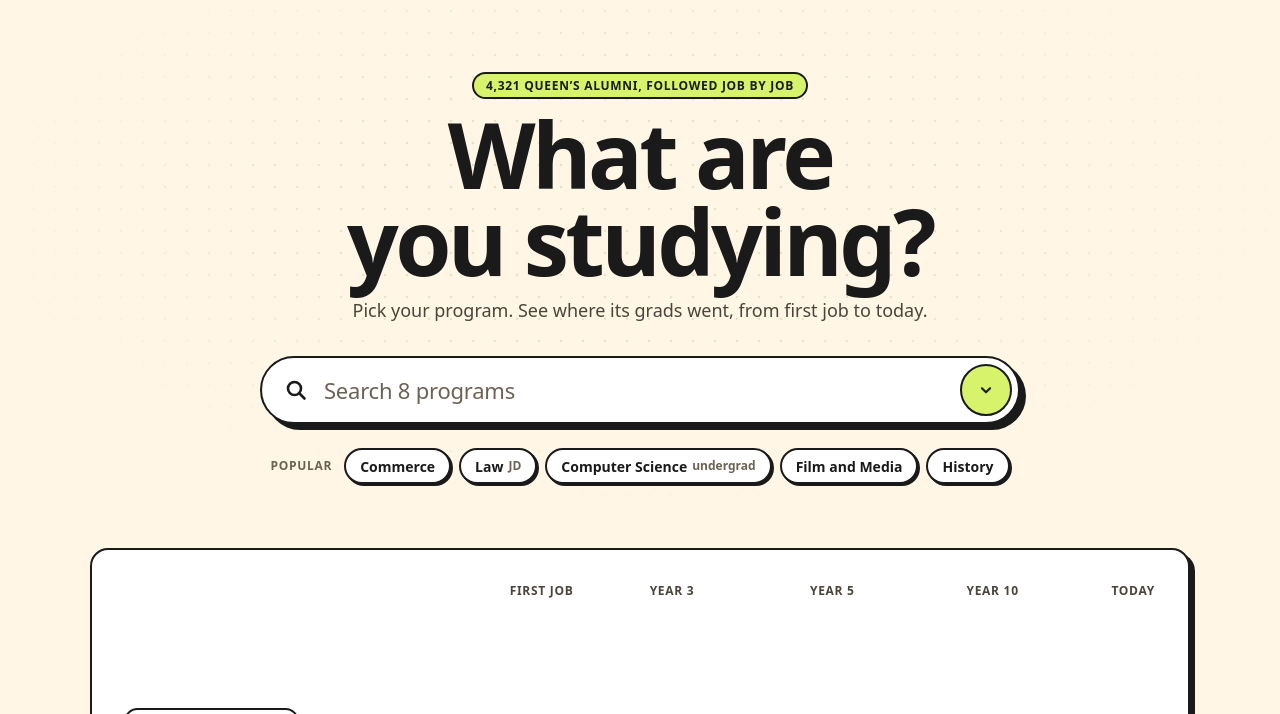
Scenario: HomeView › offers the largest programs as chips, one per name, that pick on click
The image size is (1280, 714).
expect the heading "What are you studying?" is shown: met, box x1=347 y1=92 x2=933 y2=303
Click the button "Law JD": (498, 466) x1=459 y1=448 x2=537 y2=484
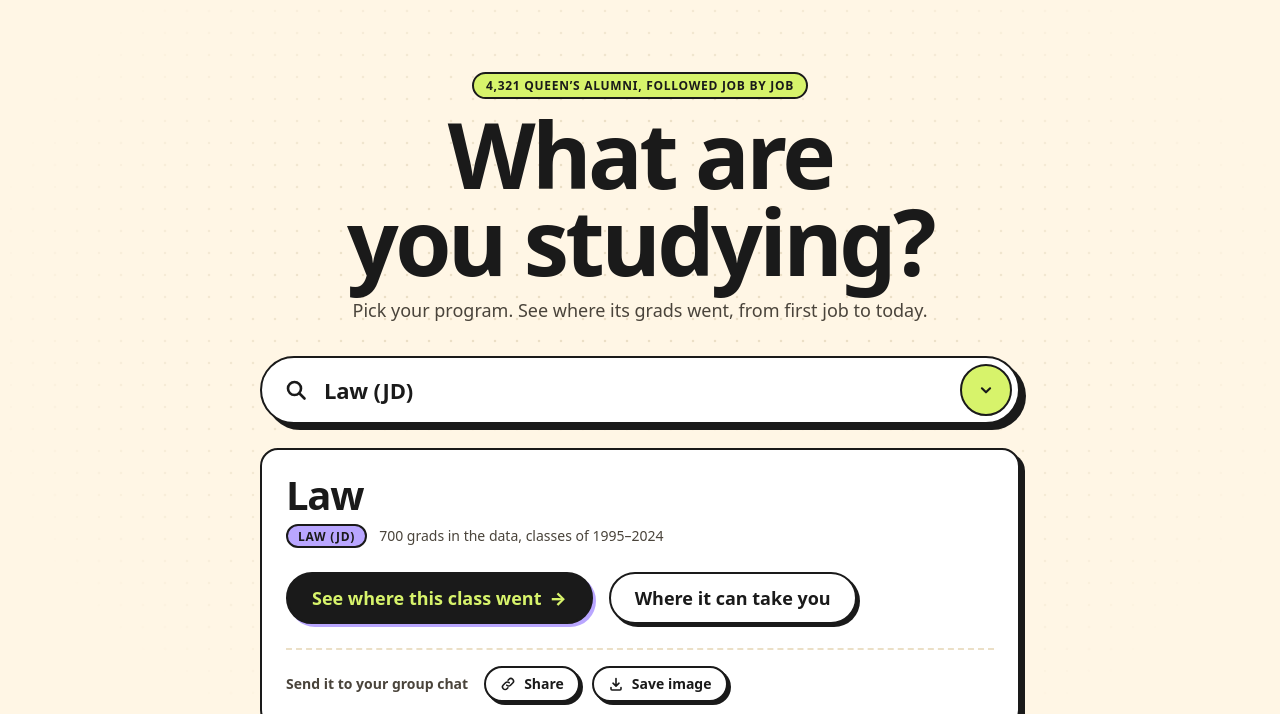
expect the dropdown named "Your program" holds "Law (JD)": met, box x1=260 y1=356 x2=1020 y2=424
